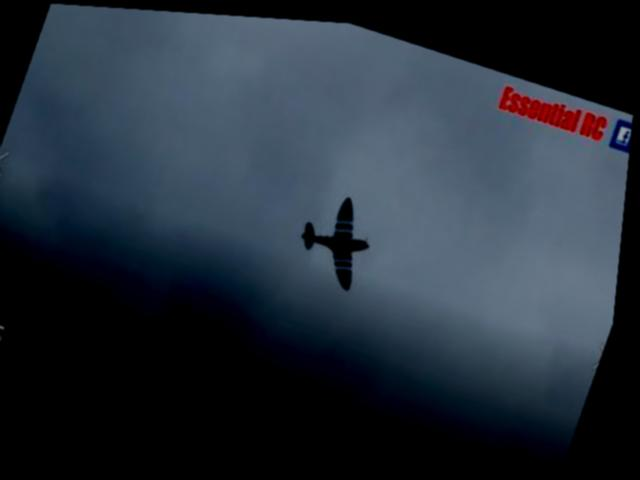uav: (290, 178, 387, 290)
